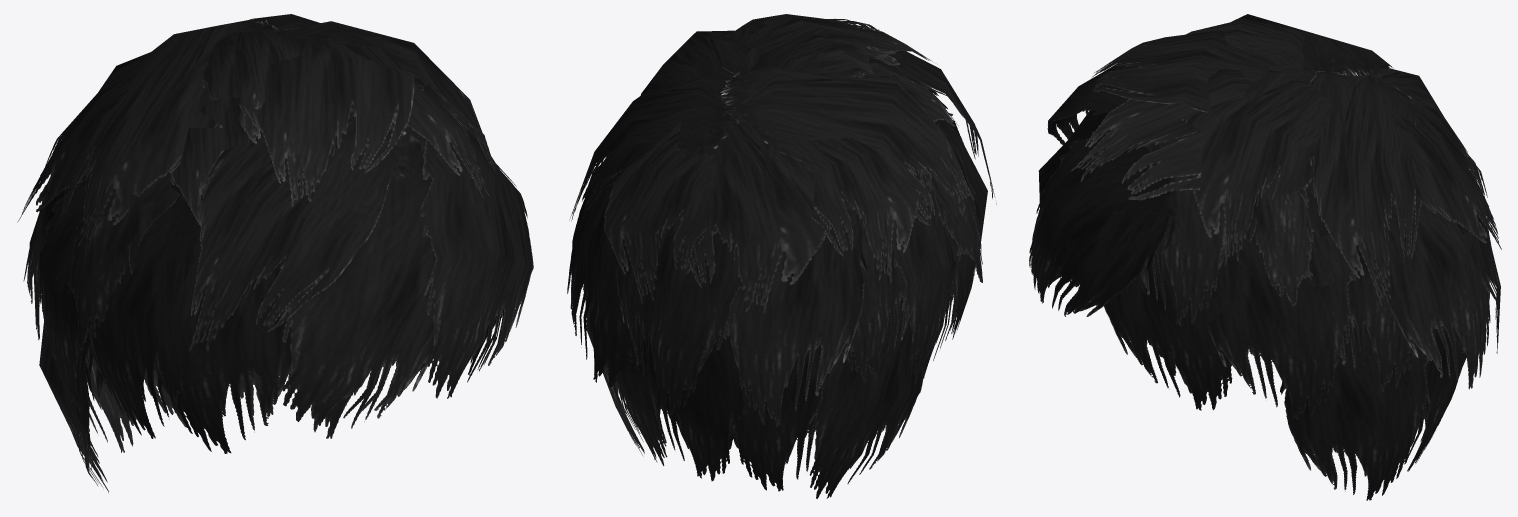
Rendered from hair_016.fbx.
3 views of the same model, side by side, from view 1: azimuth 30°, elevation 25°; view 2: azimuth 150°, elevation 25°; view 3: azimuth 270°, elevation 25° (orthographic). The views are drawn at different scales.
Visible parts, largest first — view 1: hair_016; view 2: hair_016; view 3: hair_016.
Boxes of the visible parts, x1,y1,x2,y2 form: hair_016: [17, 14, 533, 492]; hair_016: [567, 14, 996, 498]; hair_016: [1029, 14, 1501, 500].
Size of the model in its own units: 21.41 by 22.7 by 23.42.
